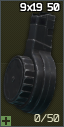MP5 9x19 X Products X-5 50-round drum magazine: (0, 0, 64, 127)
